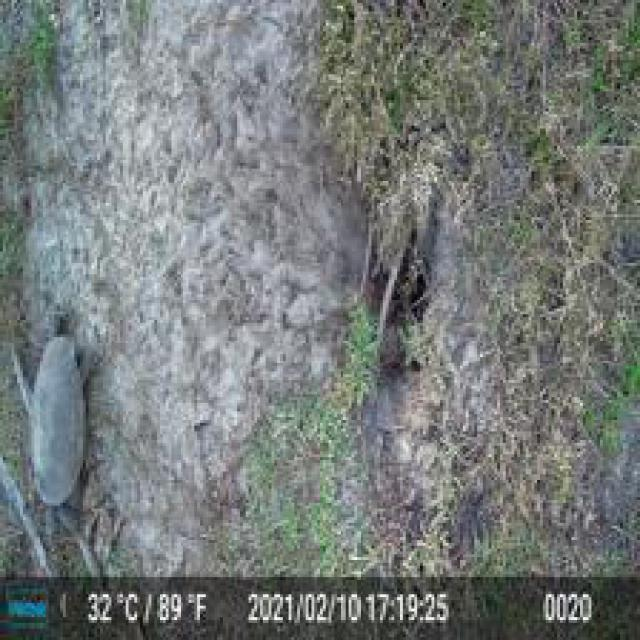tortoise: (17, 317, 89, 537)
